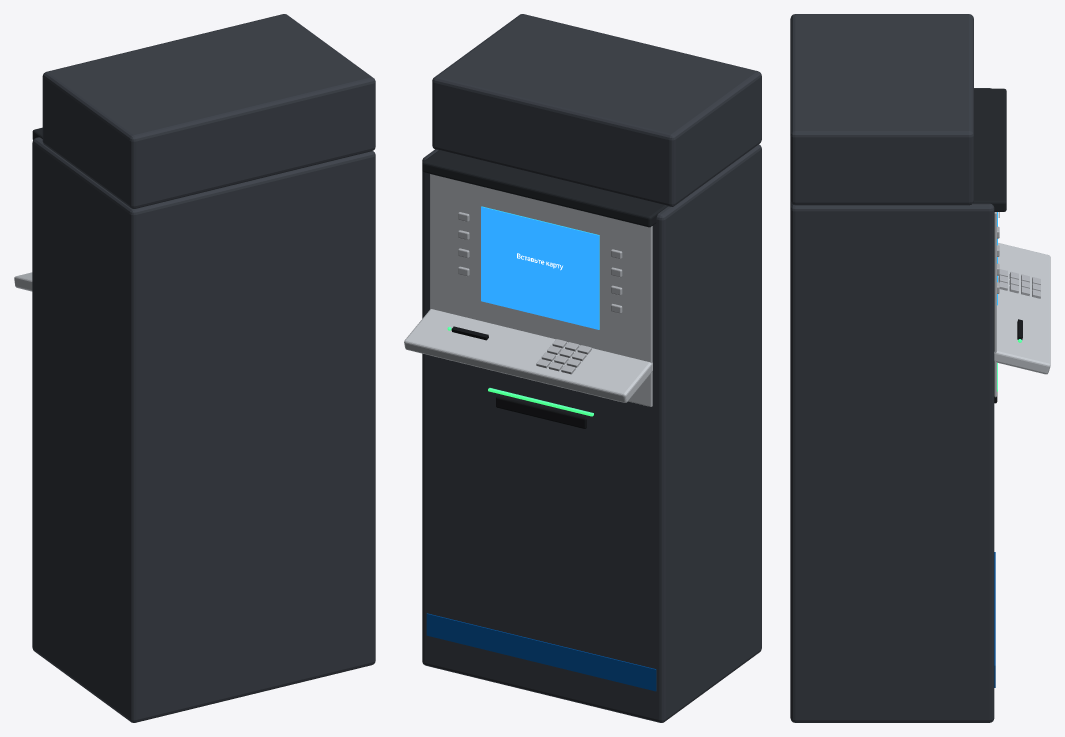
File: atm.glb
The picture shows the model from 3 angles, left to right: view 1: azimuth 30°, elevation 25°; view 2: azimuth 150°, elevation 25°; view 3: azimuth 270°, elevation 25°; orthographic projection.
Visible parts, largest first — view 1: body; view 2: body; view 3: body.
Boxes of the visible parts, x1=… form: body: x1=14, y1=14, x2=375, y2=722; body: x1=404, y1=14, x2=761, y2=722; body: x1=790, y1=14, x2=1050, y2=722.
Bounding box in the file's own units: 0.7 × 1.6 × 0.6376.
